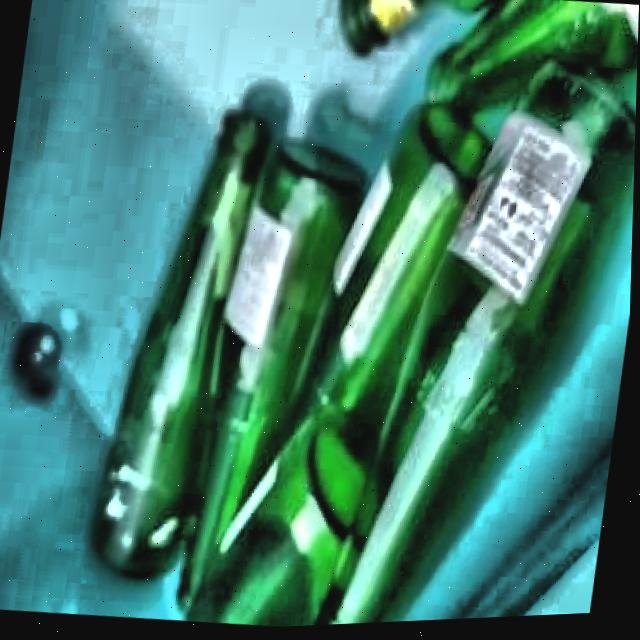glass: (94, 0, 639, 629)
